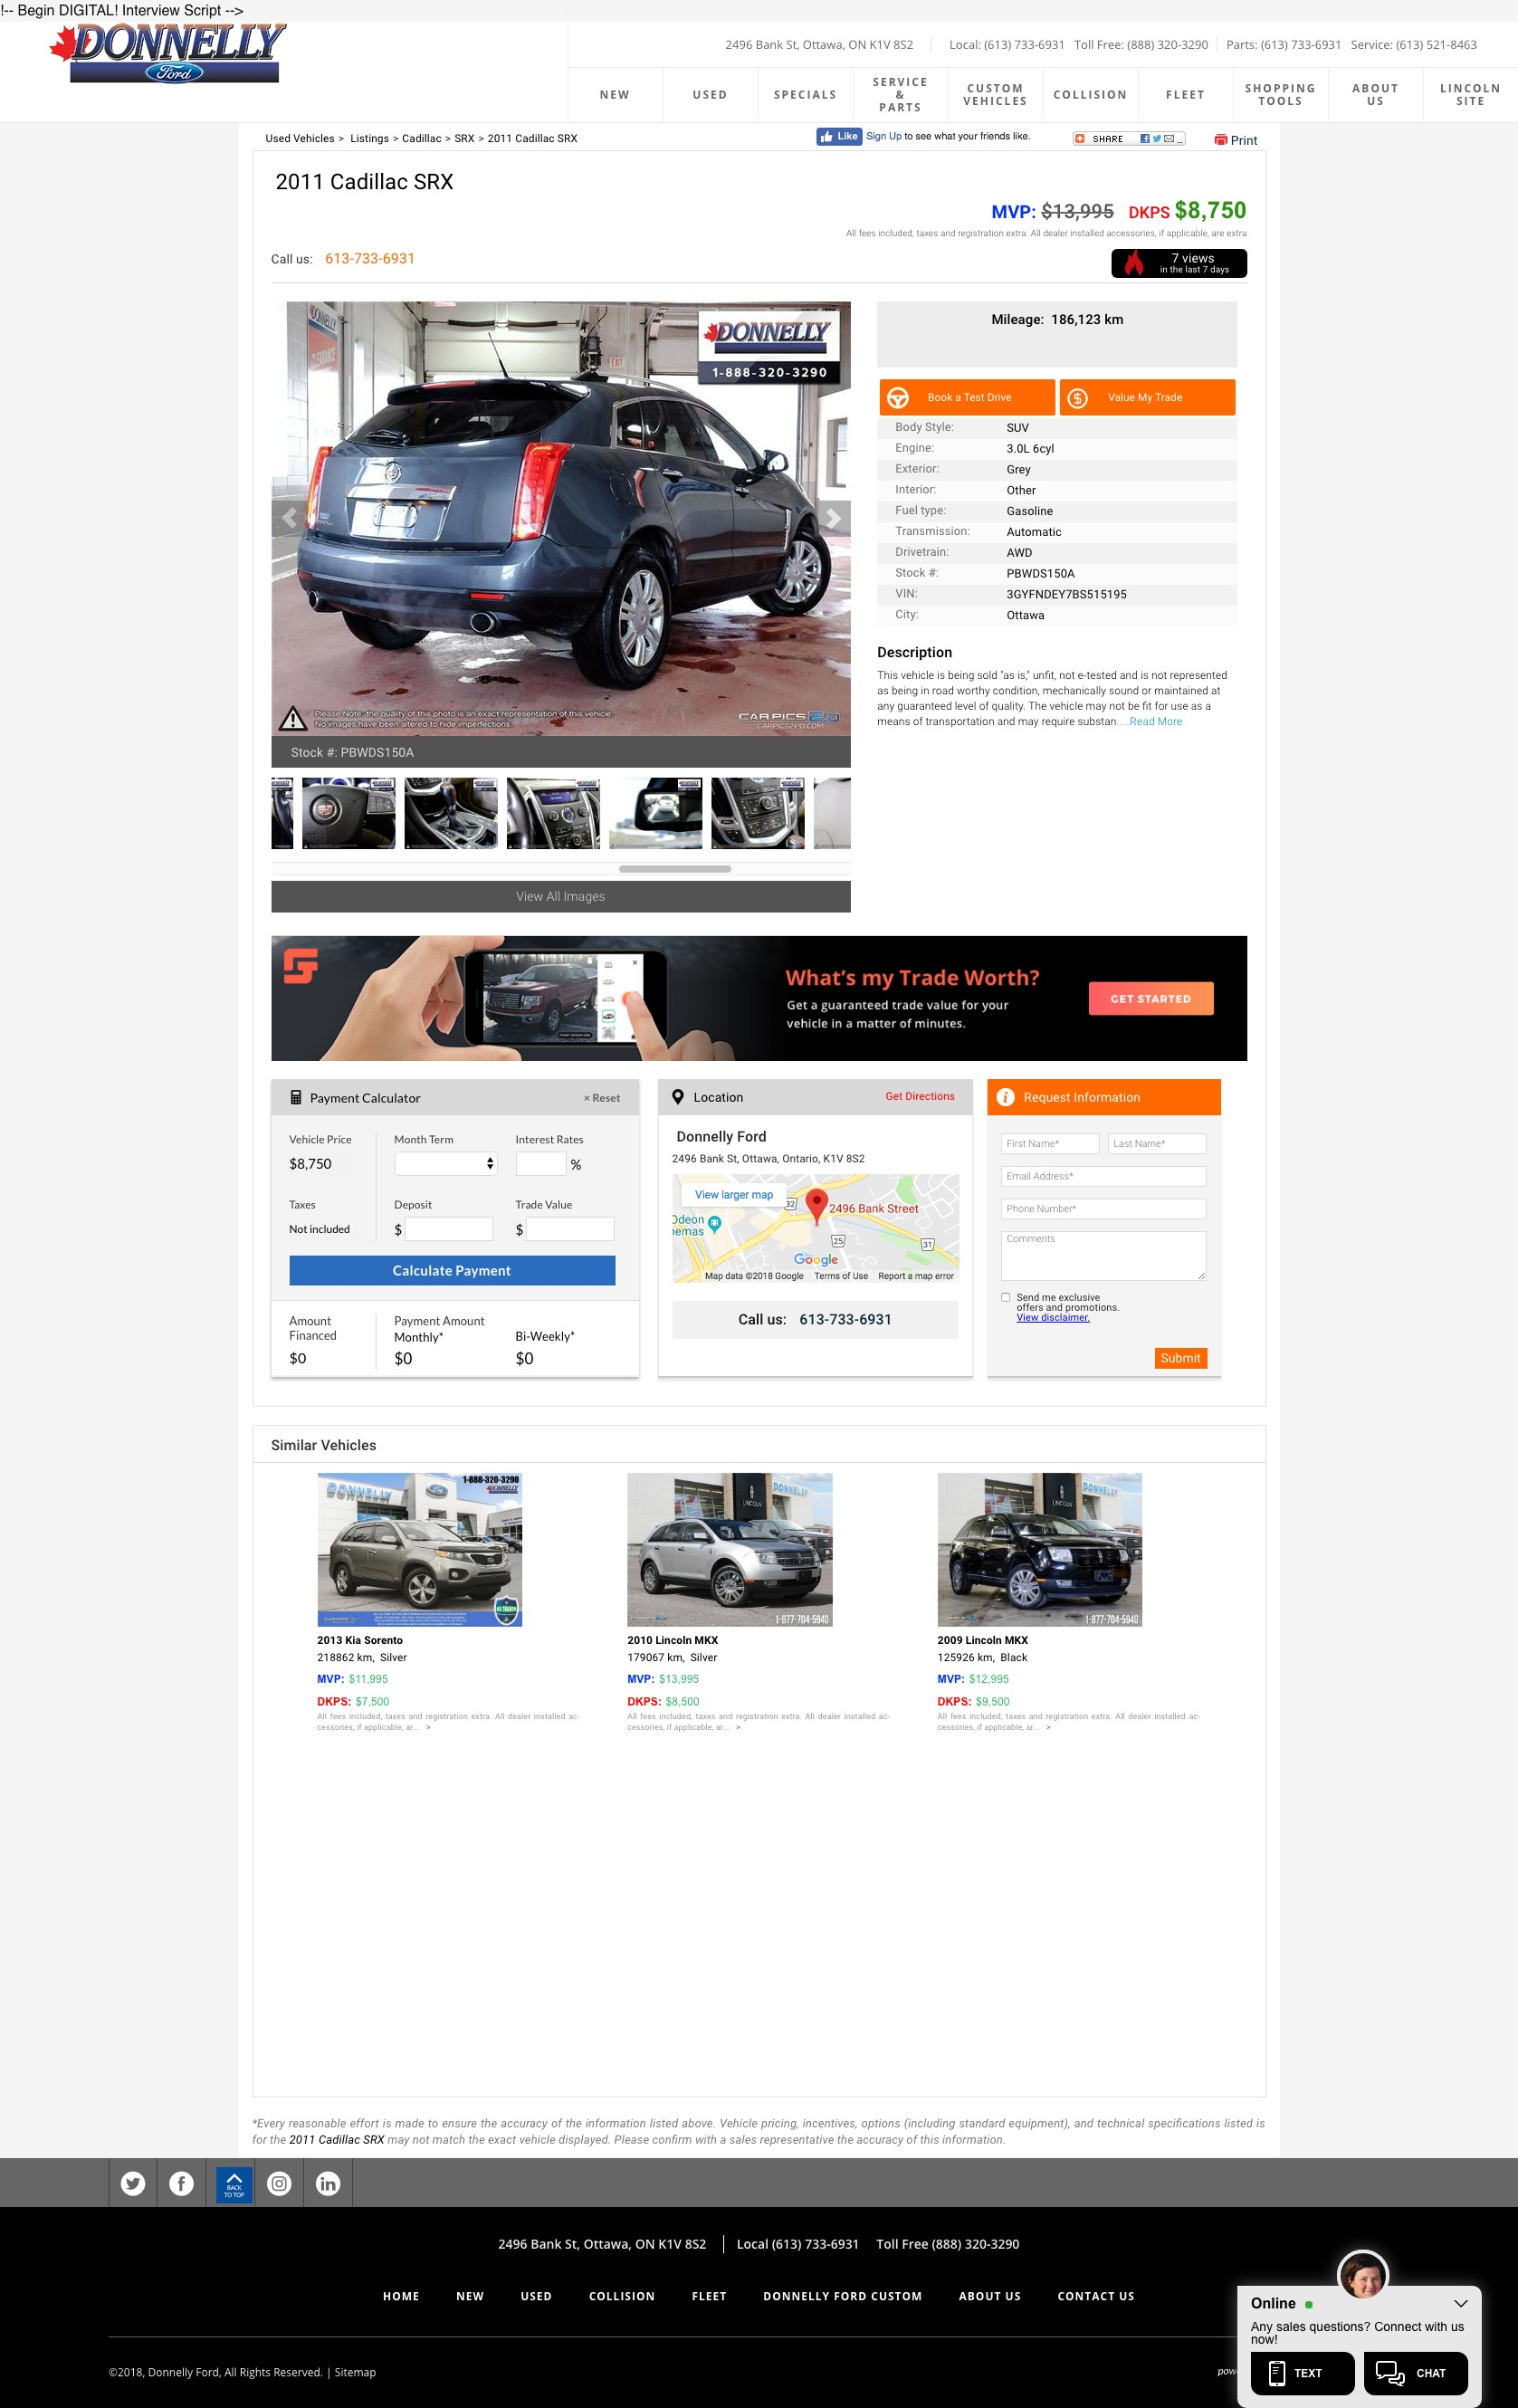car: (813, 500, 852, 537)
